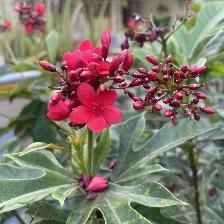jatropha: (70, 81, 127, 135)
